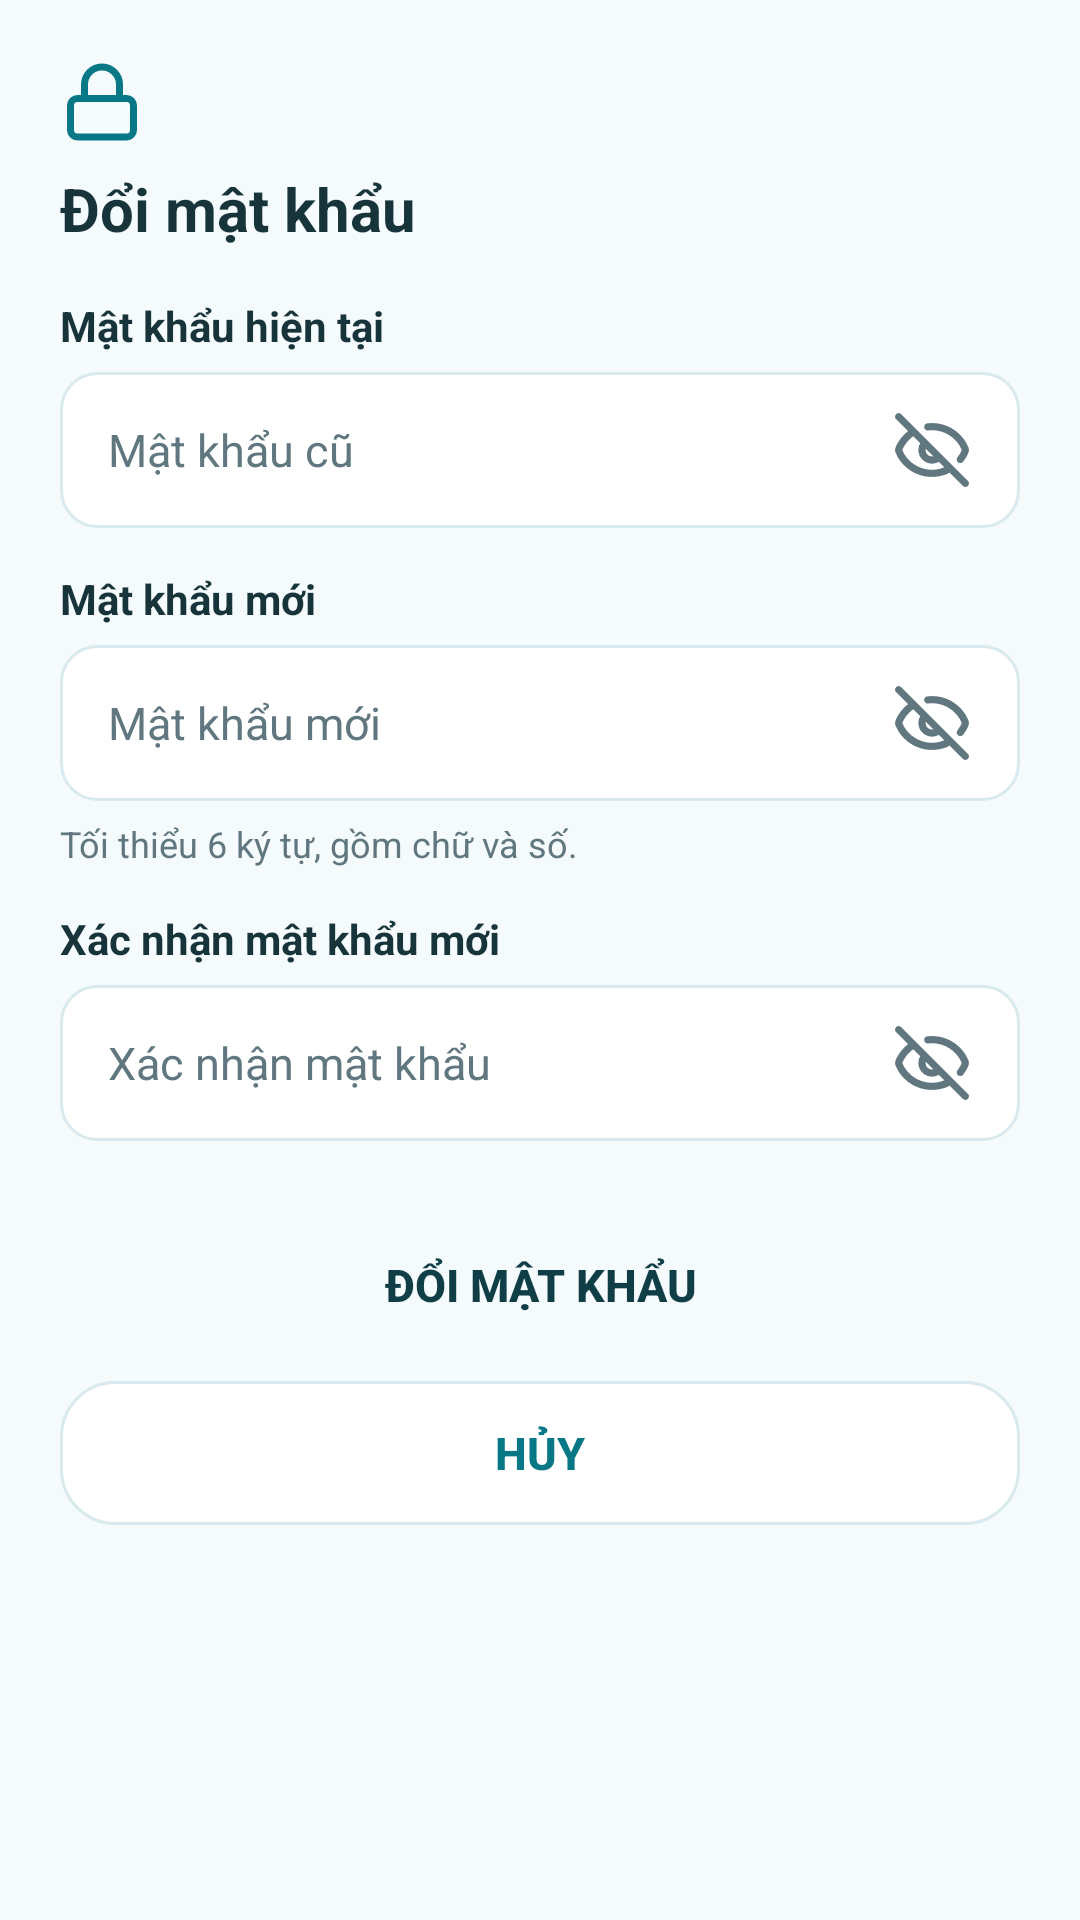

Where icons sit on this 1080 x 1920 app screen, as (x1, y1, x2, y2):
lock custom: (67, 63, 137, 141)
